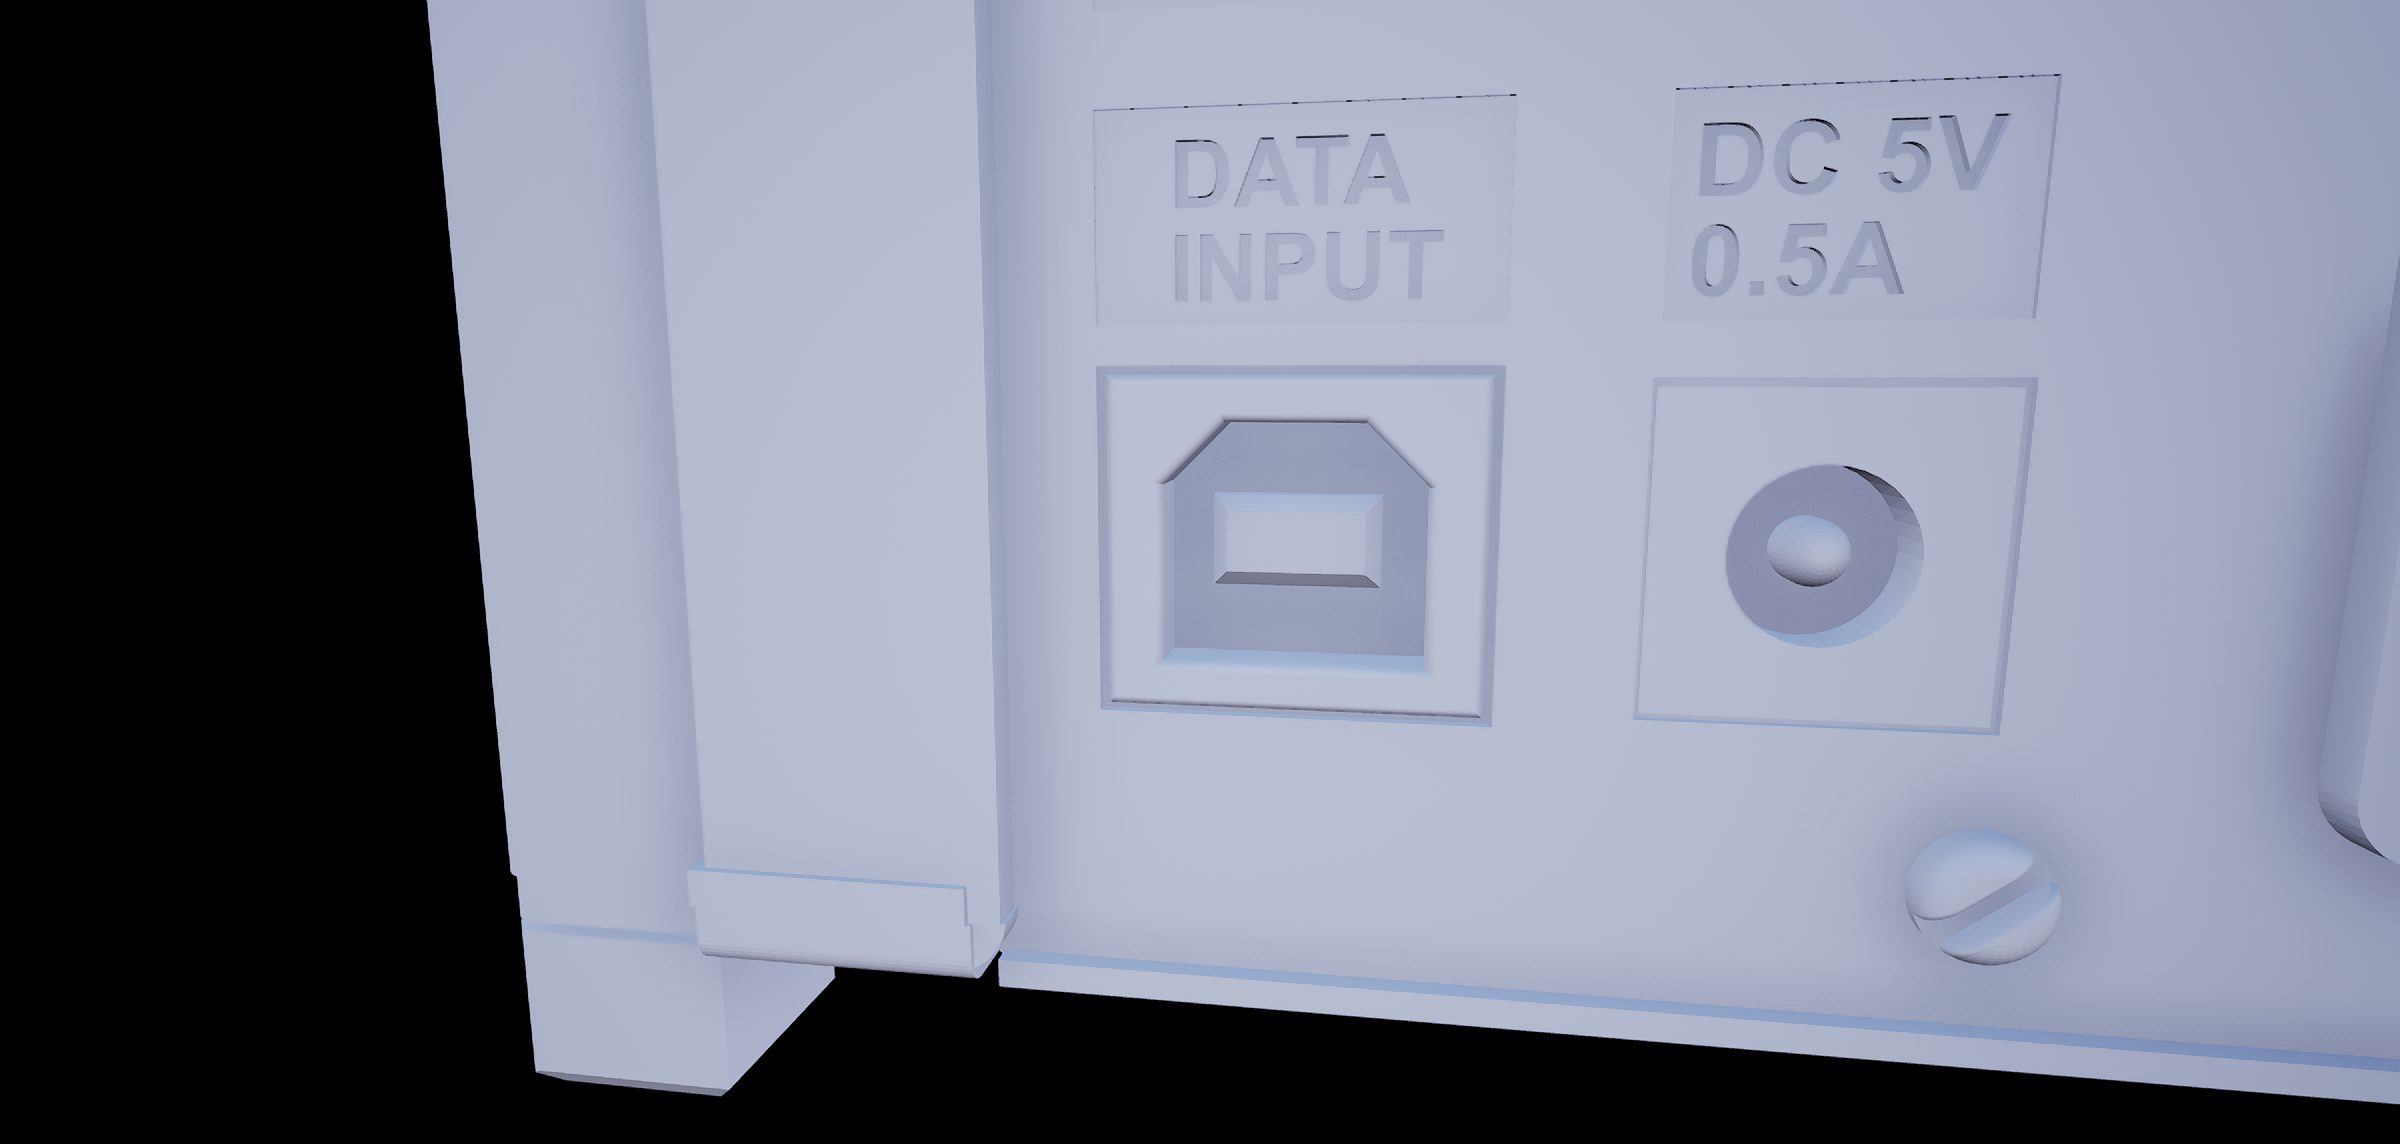dc: (1713, 446, 1956, 665)
usb: (1153, 394, 1462, 685)
